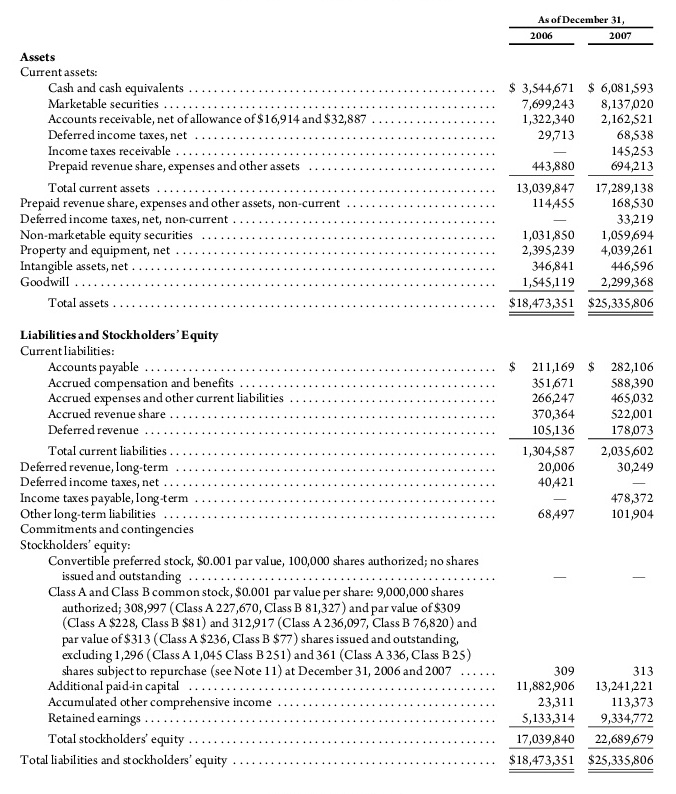table: (0, 0, 676, 794)
